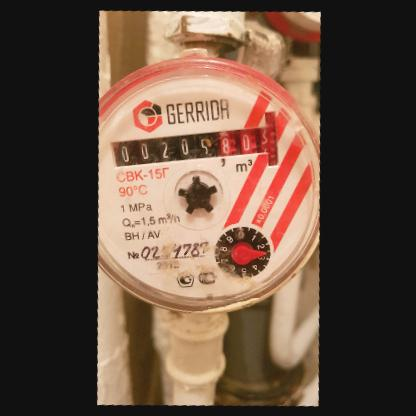digital_screen: (106, 125, 219, 171)
